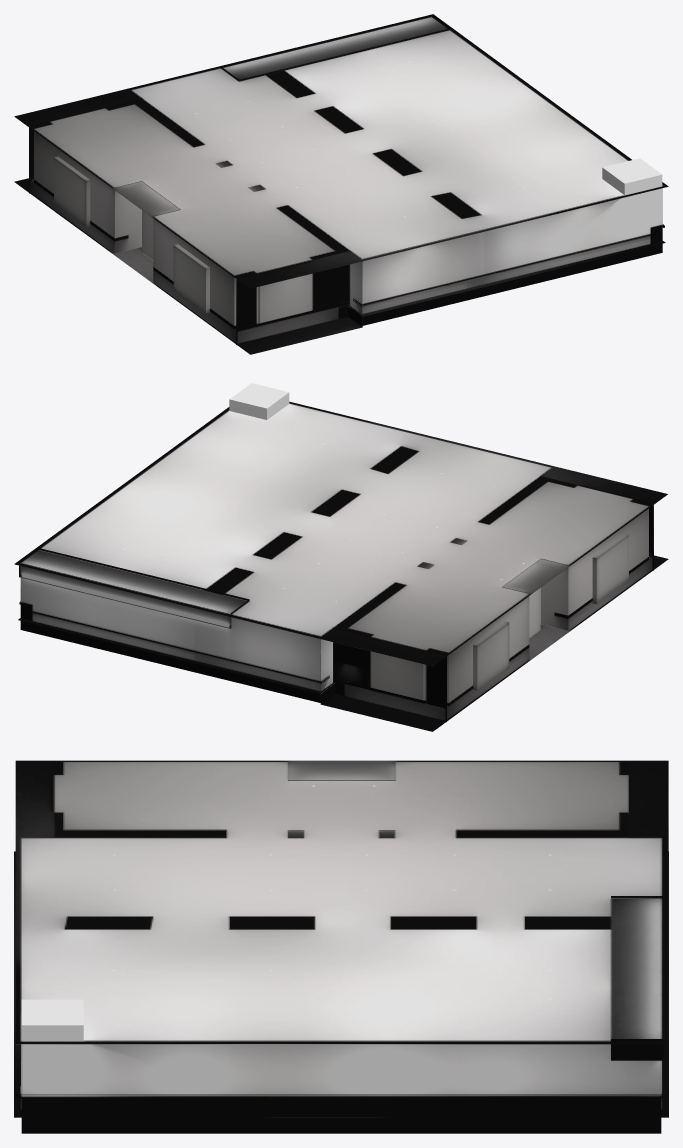
The model's file is BigRoom.glb.
The picture shows the model from 3 angles, top to bottom: view 1: azimuth 30°, elevation 25°; view 2: azimuth 150°, elevation 25°; view 3: azimuth 270°, elevation 25°; orthographic projection. The views are drawn at different scales.
Parts seen in each view (by area): view 1: polySurface69.001, polySurface79; view 2: polySurface69.001, polySurface79; view 3: polySurface69.001, polySurface79.
Part boxes in pixels (<box>): polySurface69.001: <box>14,14,668,354</box>; polySurface79: <box>220,14,450,81</box>; polySurface69.001: <box>14,383,668,731</box>; polySurface79: <box>19,548,249,628</box>; polySurface69.001: <box>14,760,668,1133</box>; polySurface79: <box>611,896,663,1060</box>.
Size of the model in its own units: 0.6012 by 0.1066 by 0.5841.
5 materials, 4 textured.
